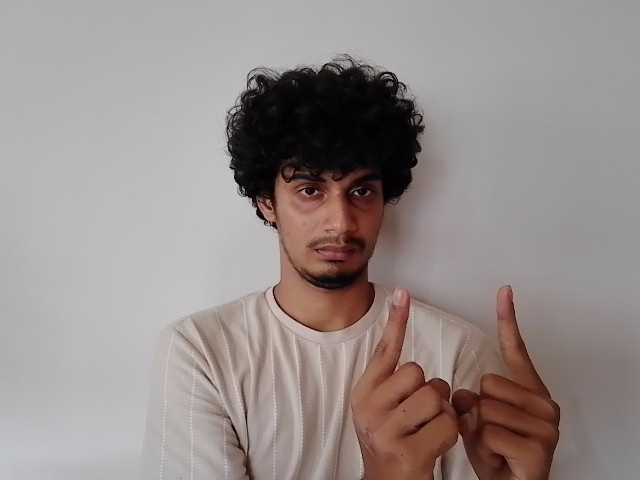play: (352, 286, 563, 473)
